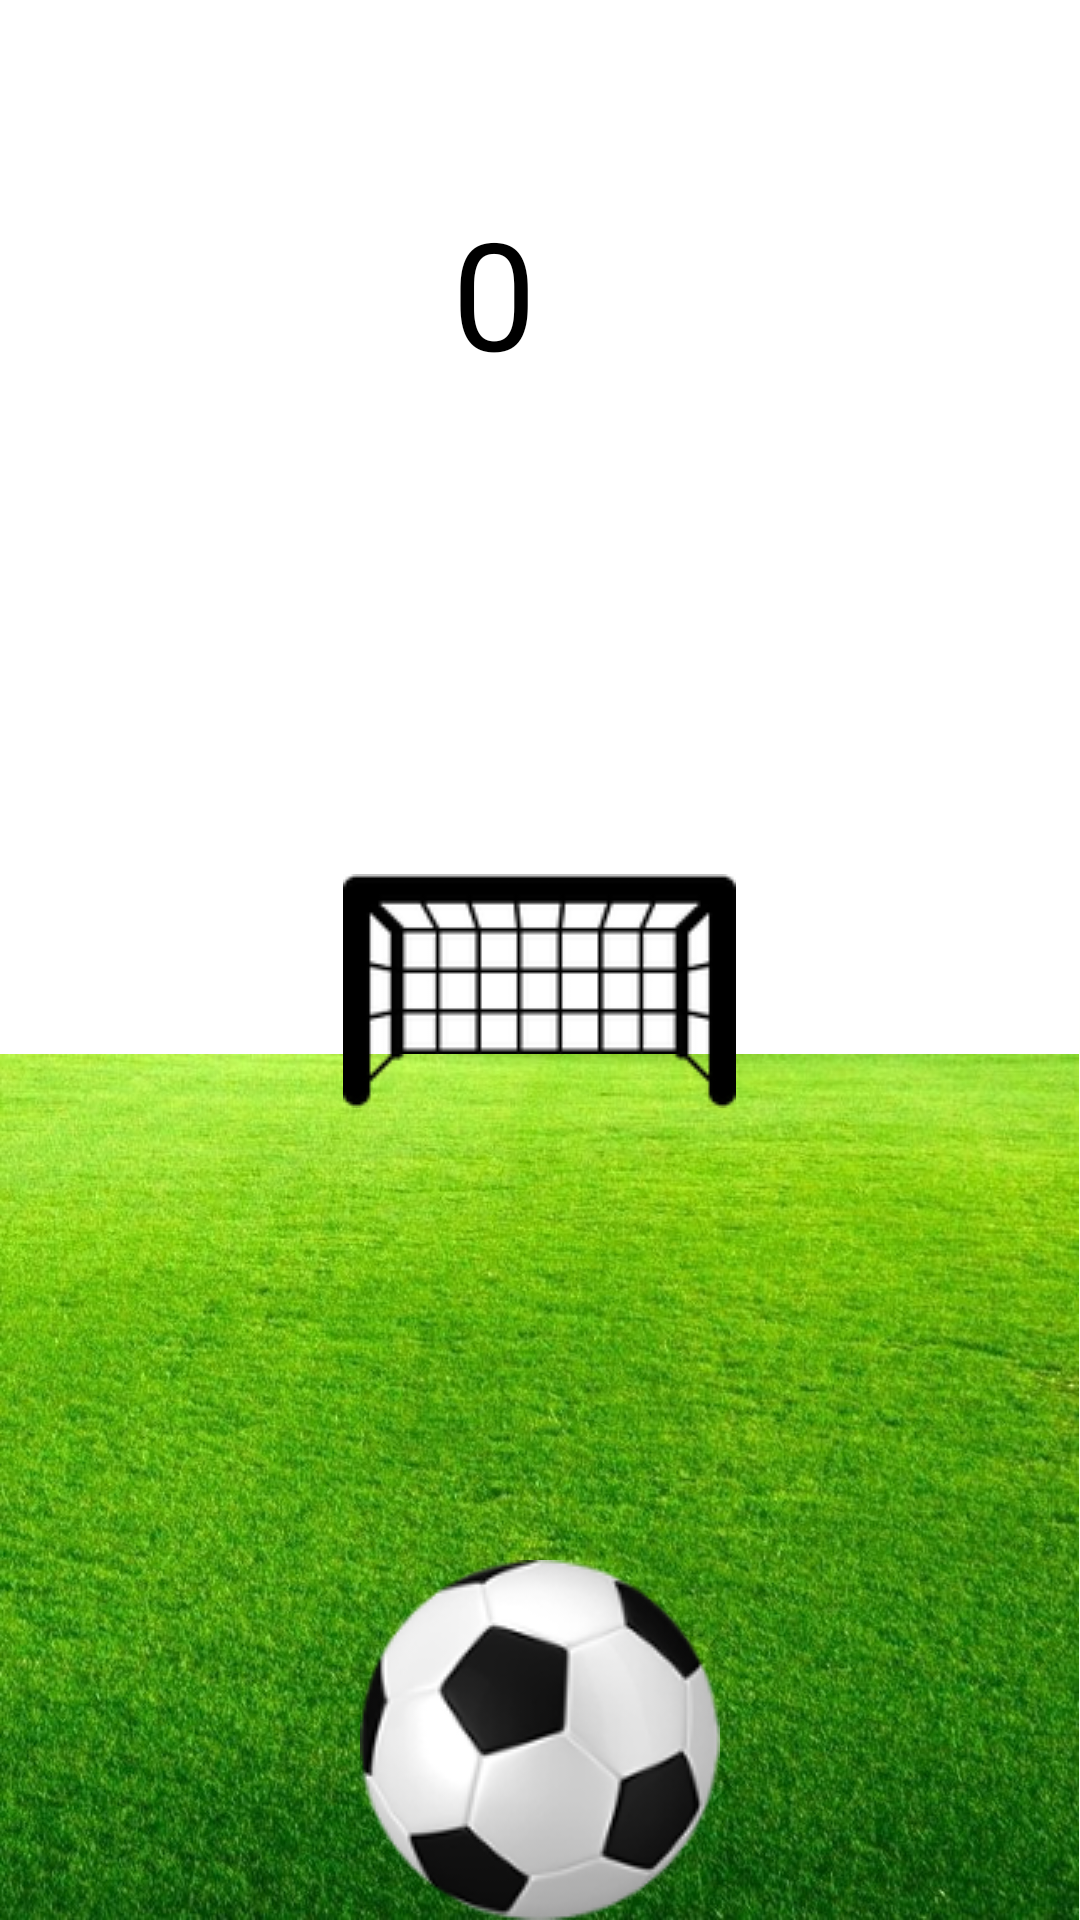

Where to tap for icons on this 1080w x 1920h app screen, as point (x, y):
soccerball: point (540, 1740)
